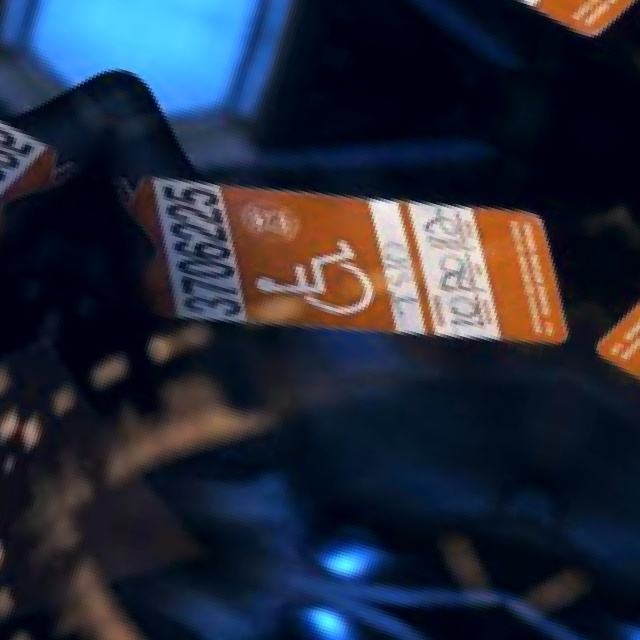ISA: (250, 219, 385, 325)
